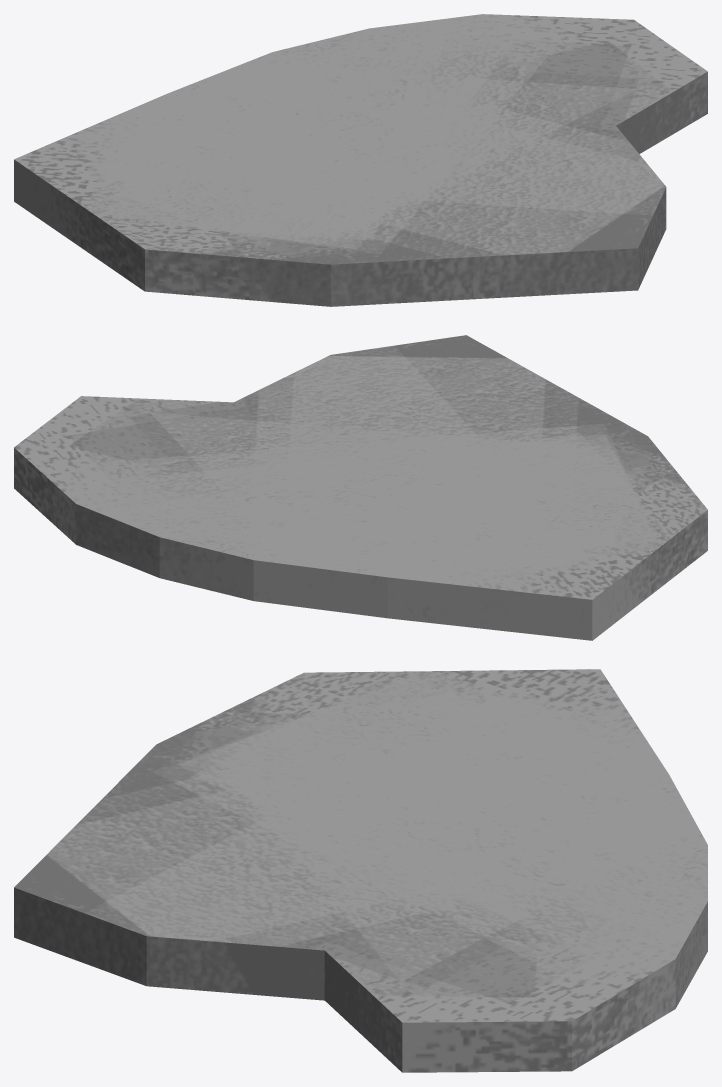
The model's file is pattio1.fbx.
3 views of the same model, one above another, from view 1: azimuth 30°, elevation 25°; view 2: azimuth 150°, elevation 25°; view 3: azimuth 270°, elevation 25° (orthographic). The views are drawn at different scales.
Visible parts, largest first — view 1: Cube; view 2: Cube; view 3: Cube.
Boxes of the visible parts, x1=… form: Cube: x1=14, y1=14, x2=707, y2=306; Cube: x1=14, y1=335, x2=707, y2=640; Cube: x1=14, y1=669, x2=707, y2=1072.
Size of the model in its own units: 422 by 27.89 by 350.
